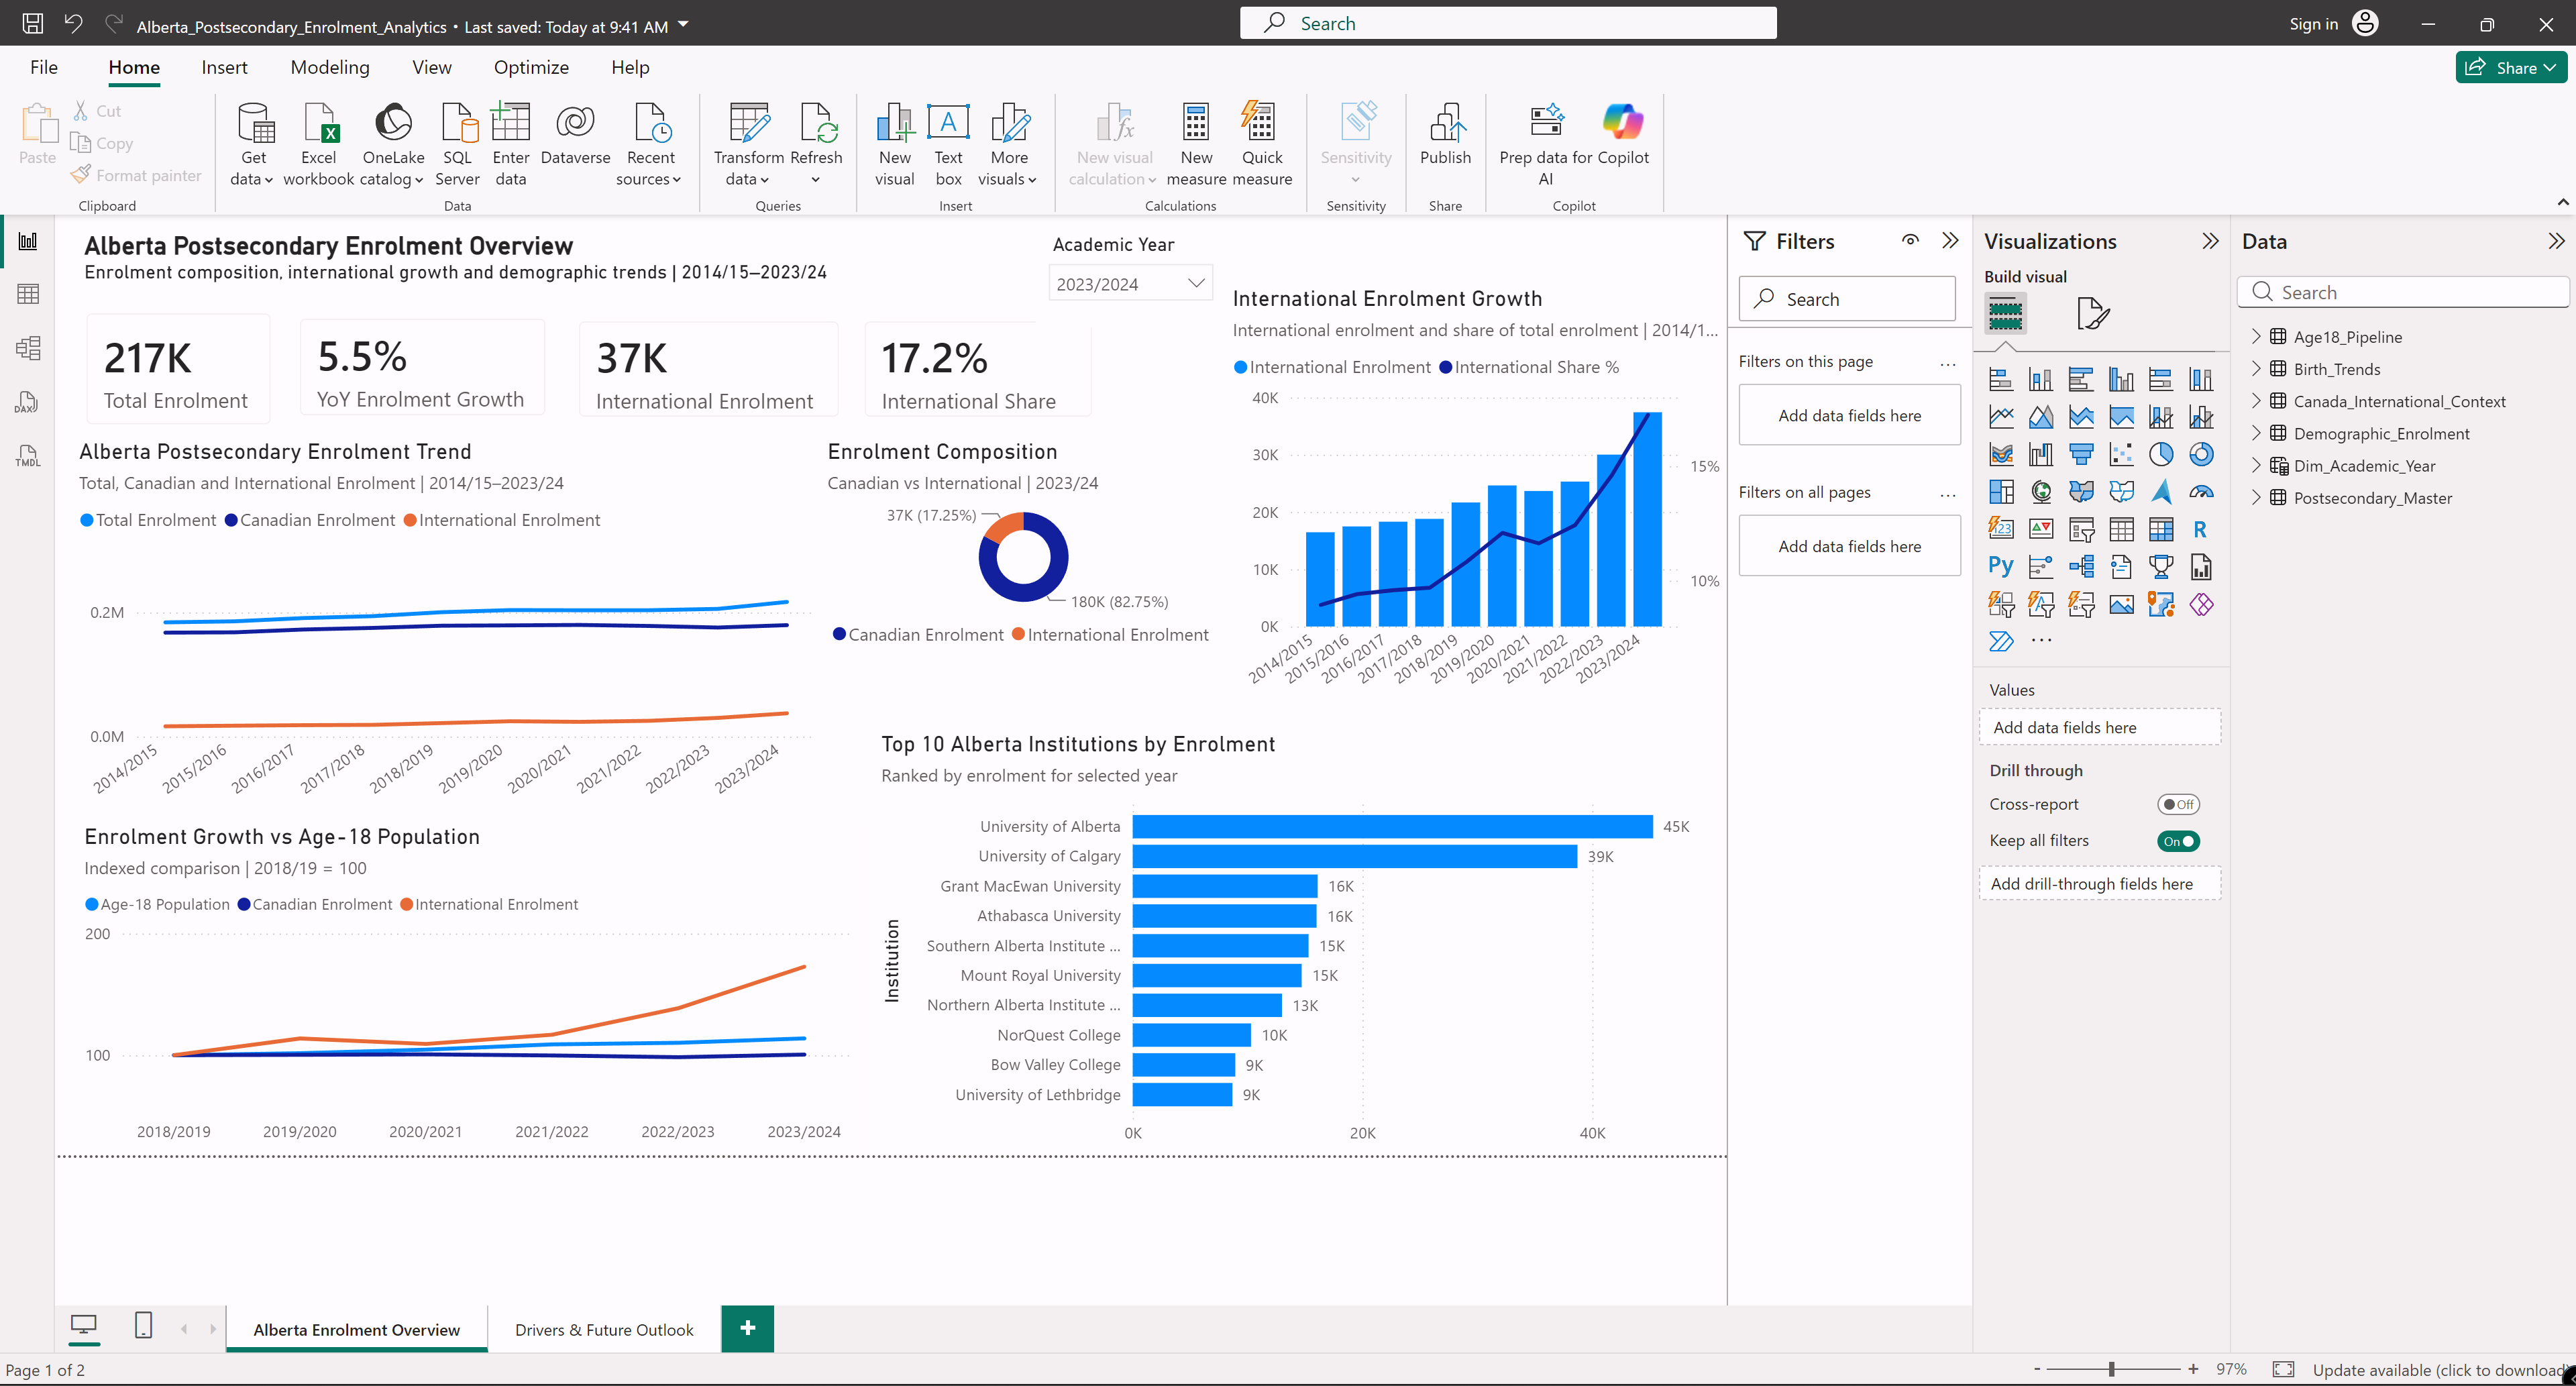

What the dashboard file says about the page in this screenshot:
{"tool":"powerbi","page":{"name":"Alberta Enrolment Overview","canvas":[1280,720],"ordinal":0},"visuals":[{"type":"cardVisual","fields":{"Data":["Postsecondary_Master.Latest Total Enrolment"]},"box":[7.2,58.6,175.7,119.2],"z":1000},{"type":"cardVisual","fields":{"Data":["Postsecondary_Master.Latest YoY Growth"]},"box":[170.5,62.7,222.9,108.9],"z":2000},{"type":"cardVisual","fields":{"Data":["Postsecondary_Master.Latest International Enrolment"]},"box":[384.2,64.7,233.2,107.9],"z":3000},{"type":"cardVisual","fields":{"Data":["Postsecondary_Master.Latest International Share"]},"box":[603,64.7,208.5,107.9],"z":4000},{"type":"textbox","box":[17.5,7.2,709.9,62.7],"z":5000},{"type":"lineChart","title":"Alberta Postsecondary Enrolment Trend","fields":{"Category":["Dim_Academic_Year.Academic_Year"],"Y":["Postsecondary_Master.Total Enrolment","Postsecondary_Master.Canadian Enrolment","Postsecondary_Master.International Enrolment"]},"box":[13.4,171.6,573.2,294.8],"z":6000},{"type":"lineClusteredColumnComboChart","title":"International Enrolment Growth","fields":{"Category":["Dim_Academic_Year.Academic_Year"],"Y":["Postsecondary_Master.International Enrolment"],"Y2":["Postsecondary_Master.International Share %"]},"box":[896.8,54.4,383.2,327.7],"z":7000},{"type":"lineChart","title":"Enrolment Growth vs Age-18 Population","fields":{"Category":["Demographic_Enrolment.Academic_Year"],"Y":["Sum(Demographic_Enrolment.Birth_Cohort_Index)","Sum(Demographic_Enrolment.Canadian_Enrolment_Index)","Sum(Demographic_Enrolment.International_Enrolment_Index)"]},"box":[17.5,466.4,599.9,253.7],"z":8000},{"type":"clusteredBarChart","title":"Top 10 Alberta Institutions by Enrolment","fields":{"Category":["Postsecondary_Master.Institution"],"Y":["Sum(Postsecondary_Master.Enrolment)"]},"box":[627.7,395.5,652.3,325.7],"z":9000},{"type":"slicer","title":"Academic Year","fields":{"Values":["Dim_Academic_Year.Academic_Year"]},"box":[750.9,9.2,145.9,77],"z":10000},{"type":"donutChart","title":"Enrolment Composition","fields":{"Y":["Postsecondary_Master.Canadian Enrolment","Postsecondary_Master.International Enrolment"]},"box":[586.6,171.6,310.2,168.5],"z":11000}]}

Visuals, with their boxes on the page's 1280x720 design canvas (x1, y1, x2, y2). These are canvas units, not pixel positions in the 2576x1386 screenshot, which may show the page scaled, cropped or inside an application window:
cardVisual - Postsecondary_Master.Latest Total Enrolment: rect(7, 59, 183, 178)
cardVisual - Postsecondary_Master.Latest YoY Growth: rect(170, 63, 393, 172)
cardVisual - Postsecondary_Master.Latest International Enrolment: rect(384, 65, 617, 173)
cardVisual - Postsecondary_Master.Latest International Share: rect(603, 65, 812, 173)
textbox: rect(18, 7, 727, 70)
"Alberta Postsecondary Enrolment Trend" lineChart: rect(13, 172, 587, 466)
"International Enrolment Growth" lineClusteredColumnComboChart: rect(897, 54, 1280, 382)
"Enrolment Growth vs Age-18 Population" lineChart: rect(18, 466, 617, 720)
"Top 10 Alberta Institutions by Enrolment" clusteredBarChart: rect(628, 396, 1280, 721)
"Academic Year" slicer: rect(751, 9, 897, 86)
"Enrolment Composition" donutChart: rect(587, 172, 897, 340)
